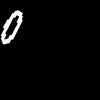chain: (1, 11, 21, 43)
